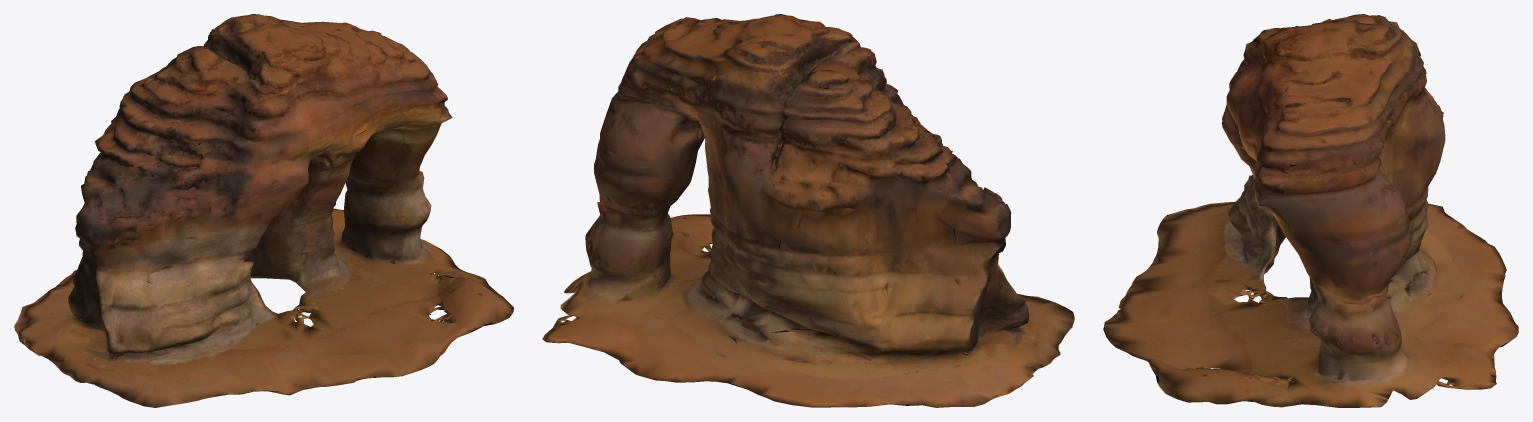
File: arch_elephant.glb
3 views of the same model, side by side, from view 1: azimuth 30°, elevation 25°; view 2: azimuth 150°, elevation 25°; view 3: azimuth 270°, elevation 25° (orthographic). The views are drawn at different scales.
Parts seen in each view (by area): view 1: arch_elephant_00; view 2: arch_elephant_00; view 3: arch_elephant_00.
Boxes of the visible parts, bbox=[...] form: arch_elephant_00: bbox=[14, 14, 513, 407]; arch_elephant_00: bbox=[542, 14, 1074, 407]; arch_elephant_00: bbox=[1103, 14, 1518, 407].
Size of the model in its own units: 1.9 by 1.2 by 1.55.
Materials: 1 (1 with a texture image).
